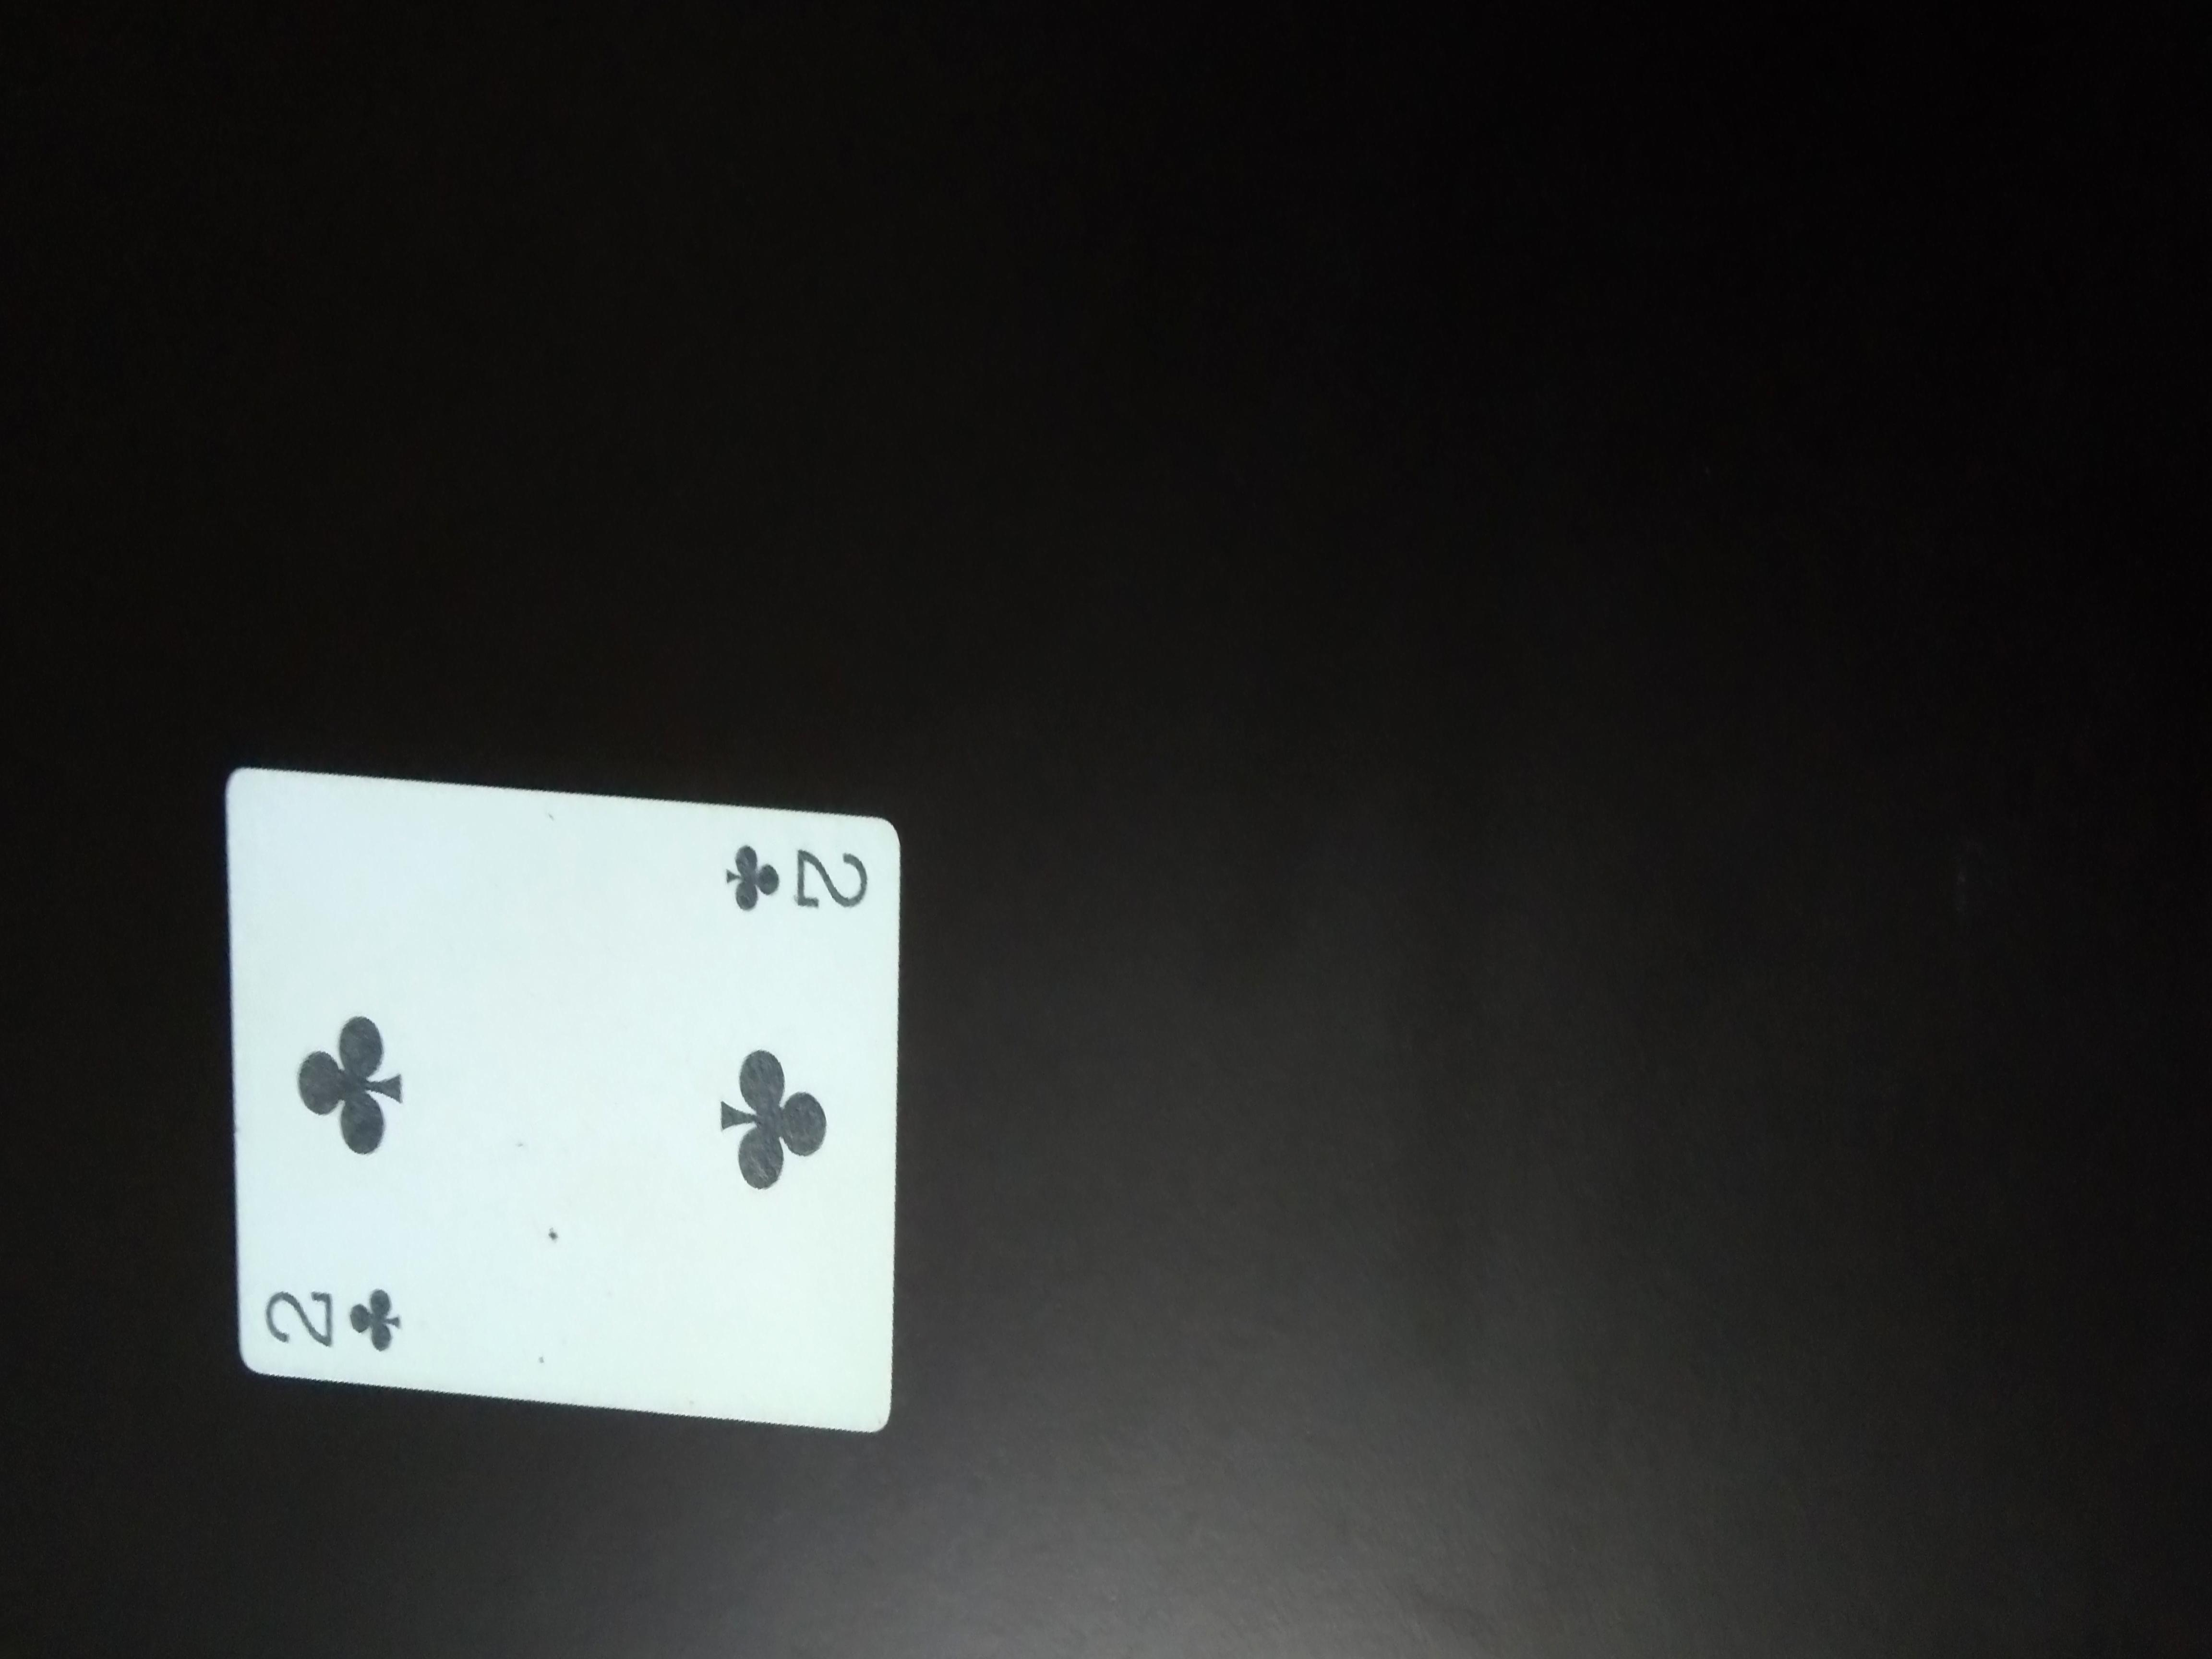2C: (254, 1260, 413, 1370)
